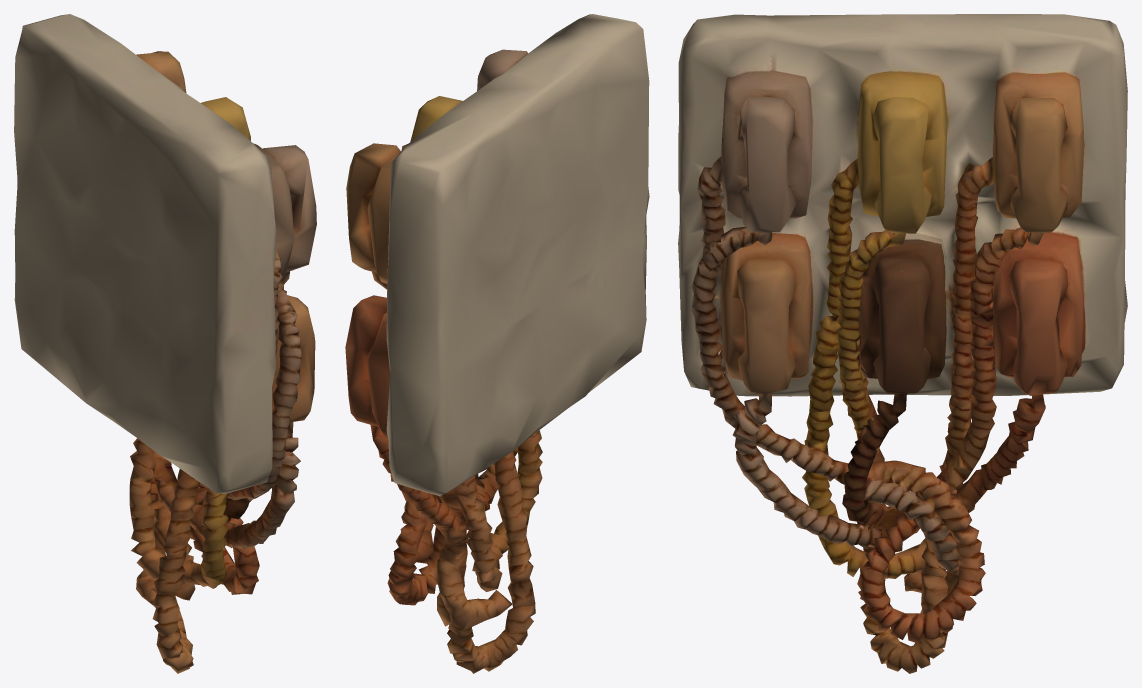
File: phone-wall.glb
3 renders of one model, left to right at view 1: azimuth 30°, elevation 25°; view 2: azimuth 150°, elevation 25°; view 3: azimuth 270°, elevation 25°, orthographic. The views are drawn at different scales.
Parts seen in each view (by area): view 1: tripo_node_6e098fb9-ea52-44b8-a2ae-1372880420c5; view 2: tripo_node_6e098fb9-ea52-44b8-a2ae-1372880420c5; view 3: tripo_node_6e098fb9-ea52-44b8-a2ae-1372880420c5.
Part boxes in pixels (<box>): tripo_node_6e098fb9-ea52-44b8-a2ae-1372880420c5: <box>14,14,316,673</box>; tripo_node_6e098fb9-ea52-44b8-a2ae-1372880420c5: <box>345,14,649,673</box>; tripo_node_6e098fb9-ea52-44b8-a2ae-1372880420c5: <box>678,14,1127,673</box>.
Size of the model in its own units: 0.2463 by 1 by 0.6447.
1 material, 1 textured.
